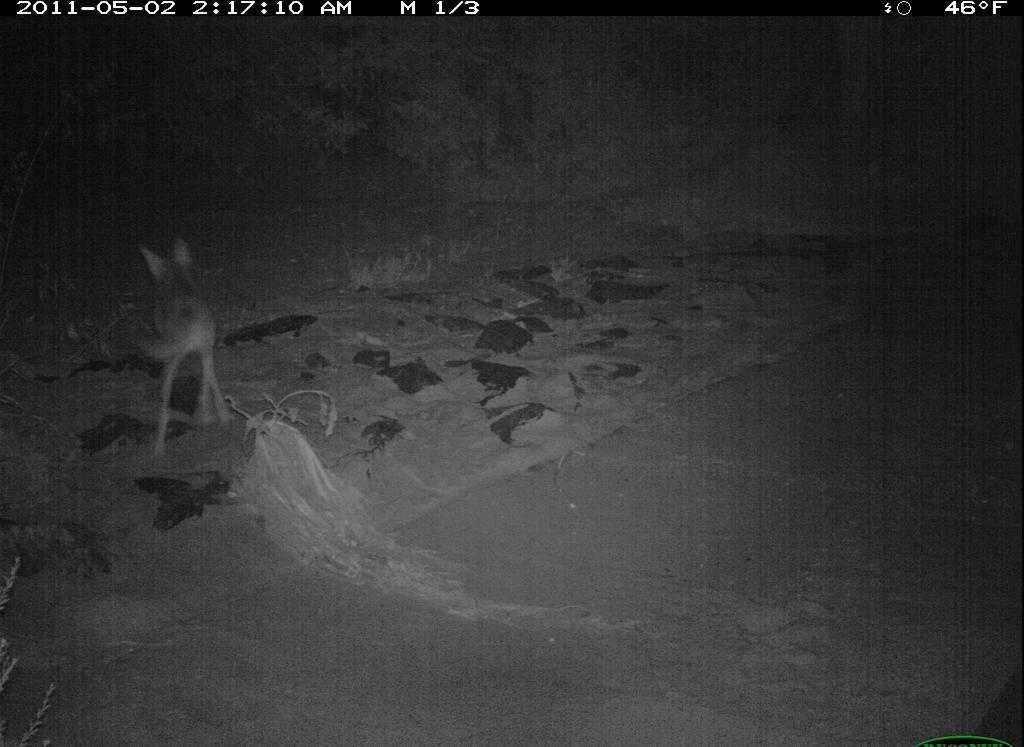coyote: (132, 237, 241, 459)
